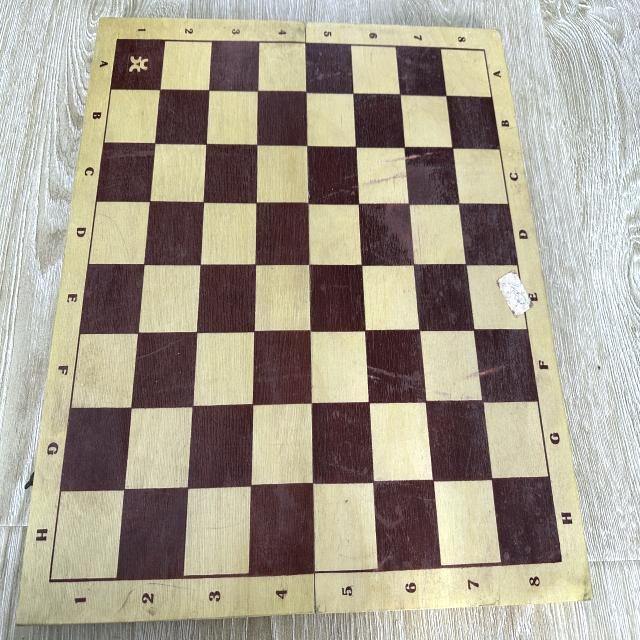chess-table-corners: (41, 567, 59, 592), (554, 550, 570, 572), (112, 32, 124, 48), (480, 42, 488, 56)
